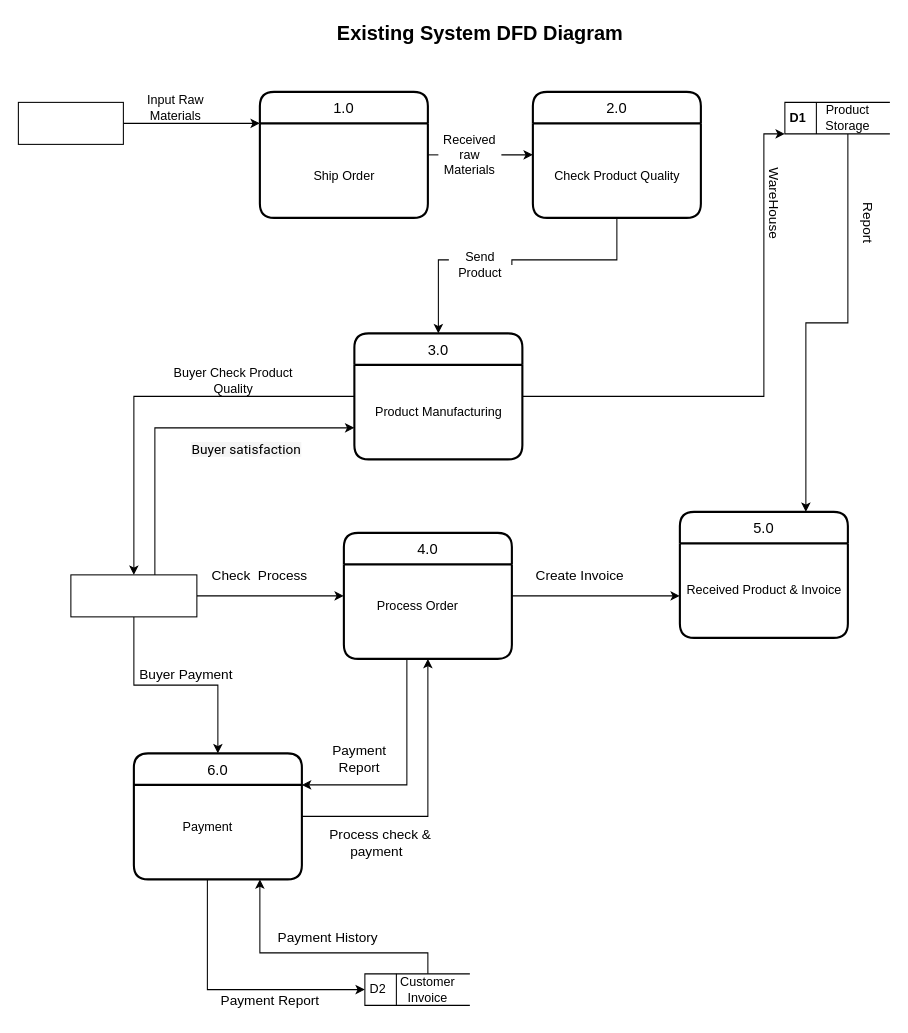
The diagram is 908 pixels wide and 1033 high, and some of its shapes have lost their labels. The shapes that lost their labels are listed below. From the top down, each one's centre as x and y in pixels, then its label:
At point 70,122: "Raw Materials".
At point 133,595: "Buyer".
